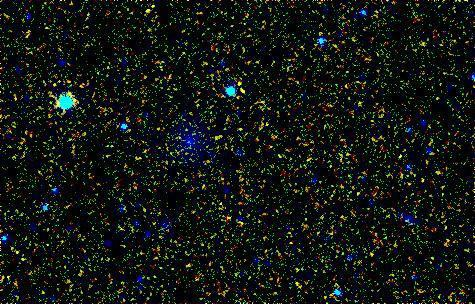star: (133, 0, 163, 20)
